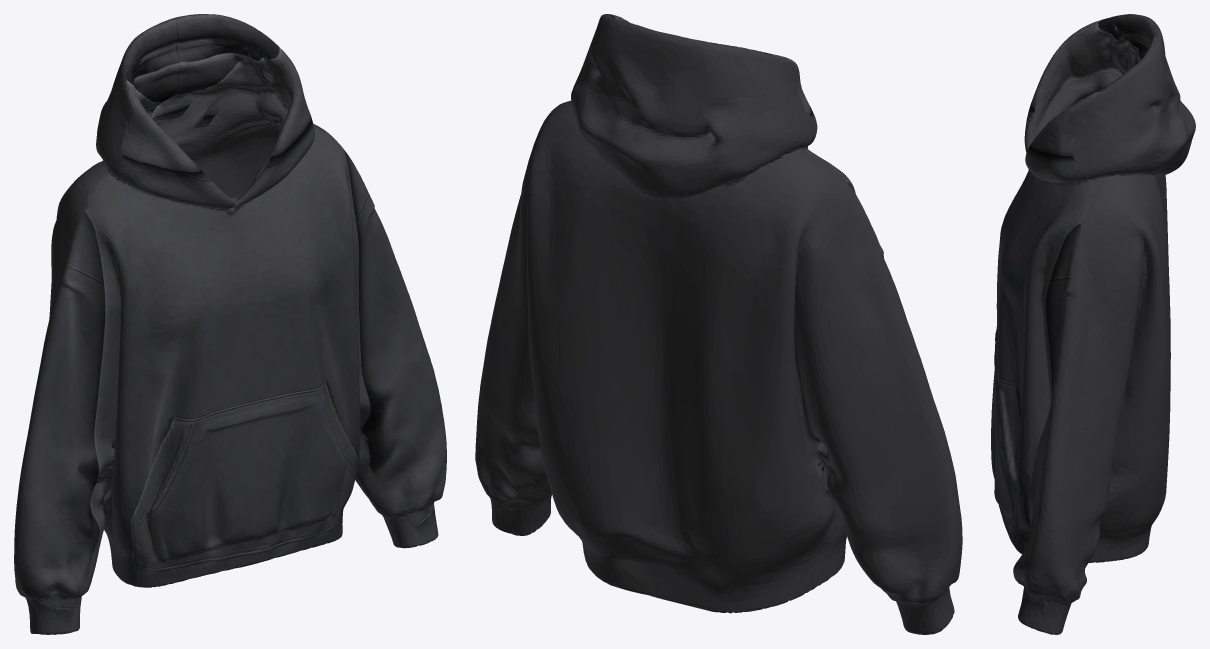
Rendered from noir-oversize-hudi-grafit.glb.
3 renders of one model, left to right at view 1: azimuth 30°, elevation 25°; view 2: azimuth 150°, elevation 25°; view 3: azimuth 270°, elevation 25°, orthographic. The views are drawn at different scales.
Parts seen in each view (by area): view 1: world; view 2: world; view 3: world.
Part boxes in pixels (left/top/right/bottom): world: left=14, top=14, right=446, bottom=634; world: left=475, top=14, right=962, bottom=634; world: left=991, top=14, right=1195, bottom=634.
Bounding box in the file's own units: 1.64 × 1.96 × 0.7058.
1 material, 1 textured.
